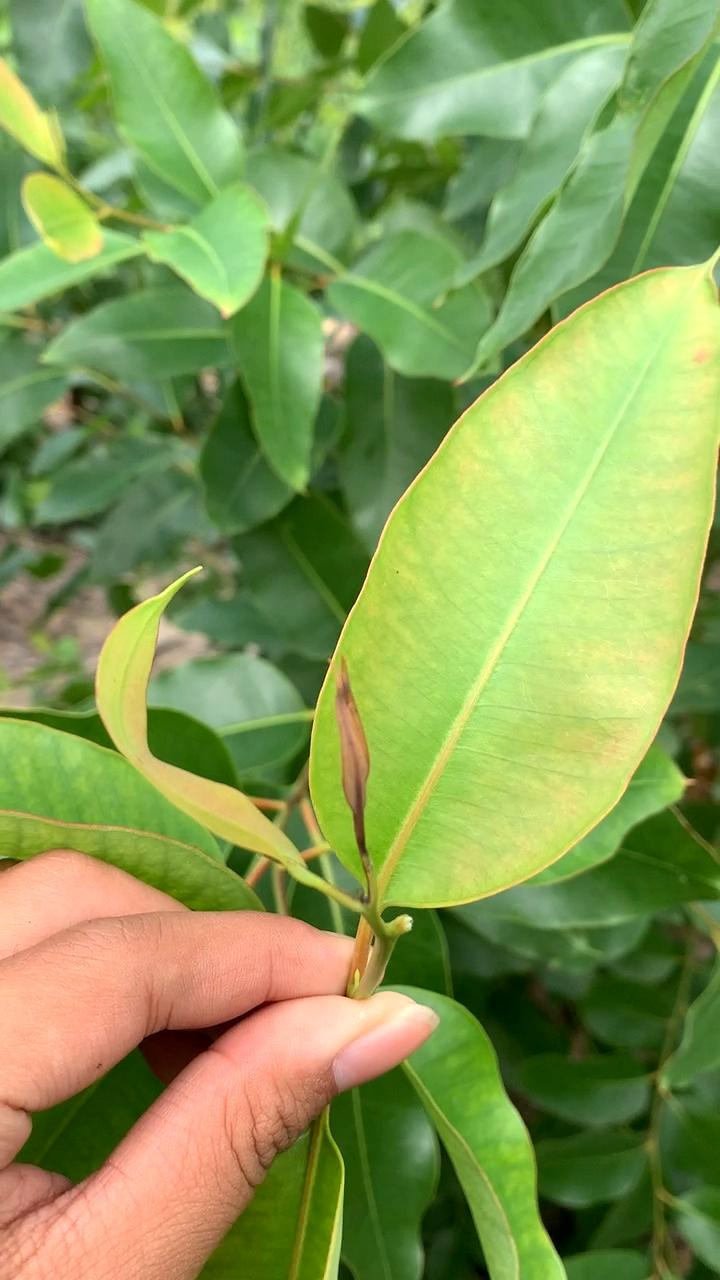Helopeltis-Withered Sprout: (306, 633, 409, 867)
